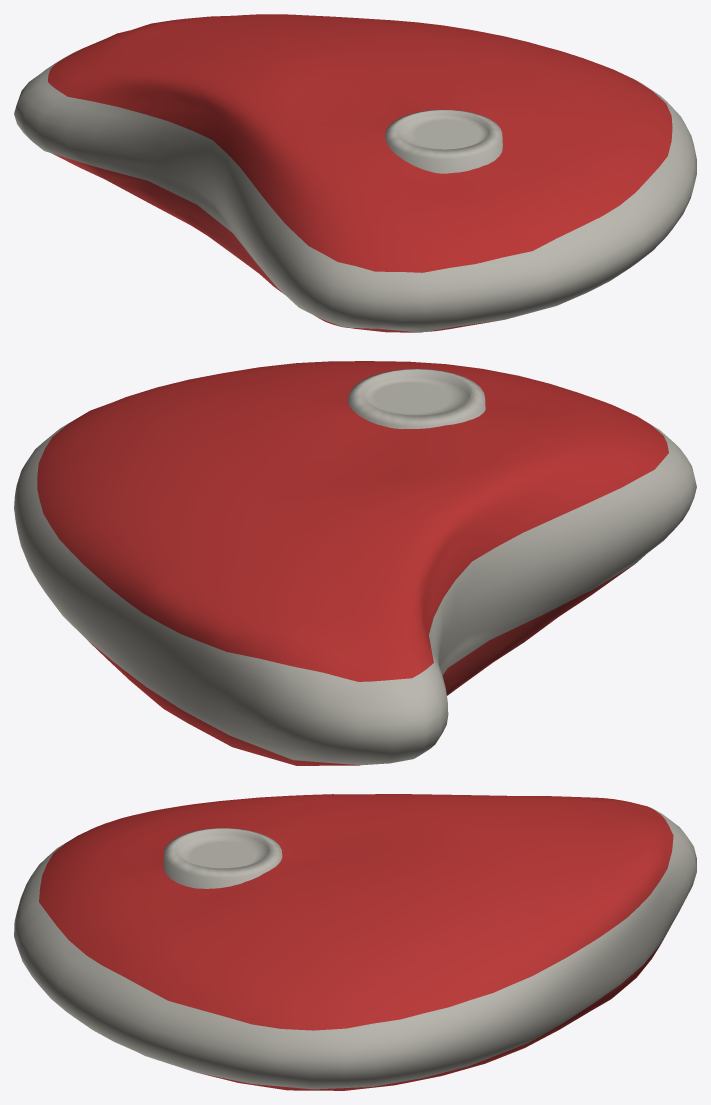
The picture shows the model from 3 angles, top to bottom: view 1: azimuth 30°, elevation 25°; view 2: azimuth 150°, elevation 25°; view 3: azimuth 270°, elevation 25°; orthographic projection. The views are drawn at different scales.
Parts seen in each view (by area): view 1: Steak; view 2: Steak; view 3: Steak.
Boxes of the visible parts, bbox=[...] form: Steak: bbox=[14, 14, 696, 332]; Steak: bbox=[14, 361, 696, 765]; Steak: bbox=[14, 794, 696, 1090].
Bounding box in the file's own units: 1.91 × 0.6367 × 2.26.
1 material, 1 textured.
